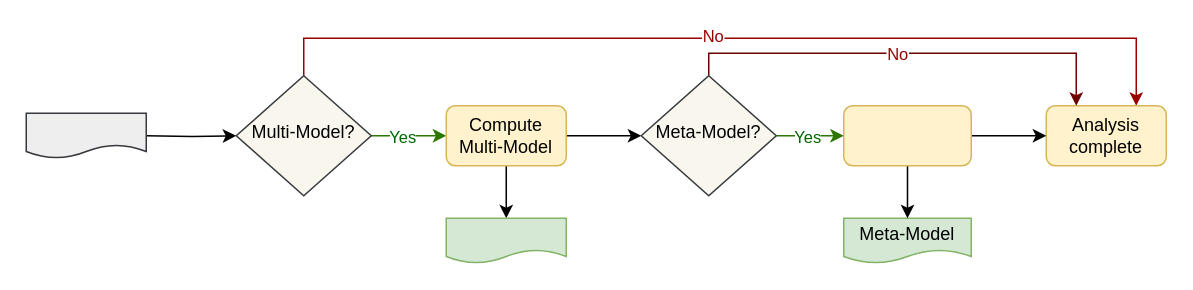
Image size: 1193x290. Some labels were removed from this diagram. Each missing label, with the box of its shape:
Compute Meta-Model: (842, 104, 971, 166)
Multi-Model: (445, 217, 566, 263)
User Input: (25, 112, 146, 158)
